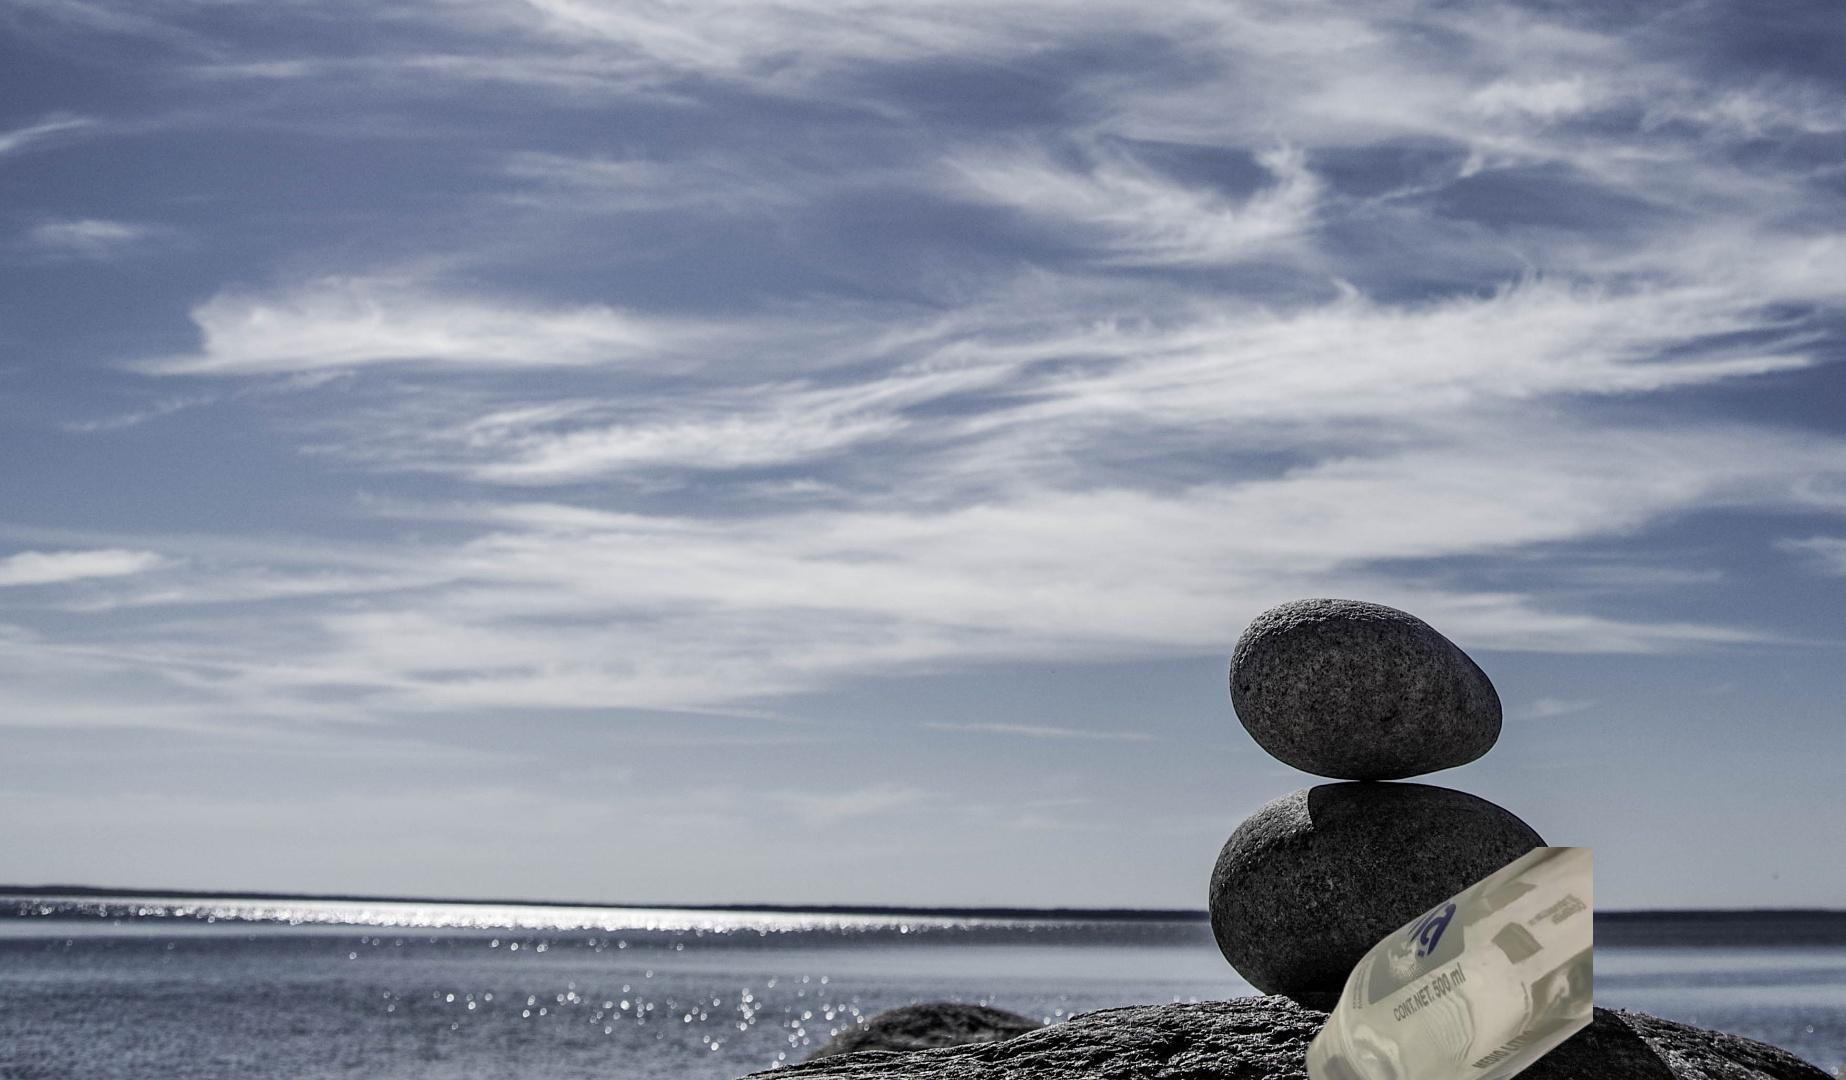glass: (1300, 847, 1593, 1080)
